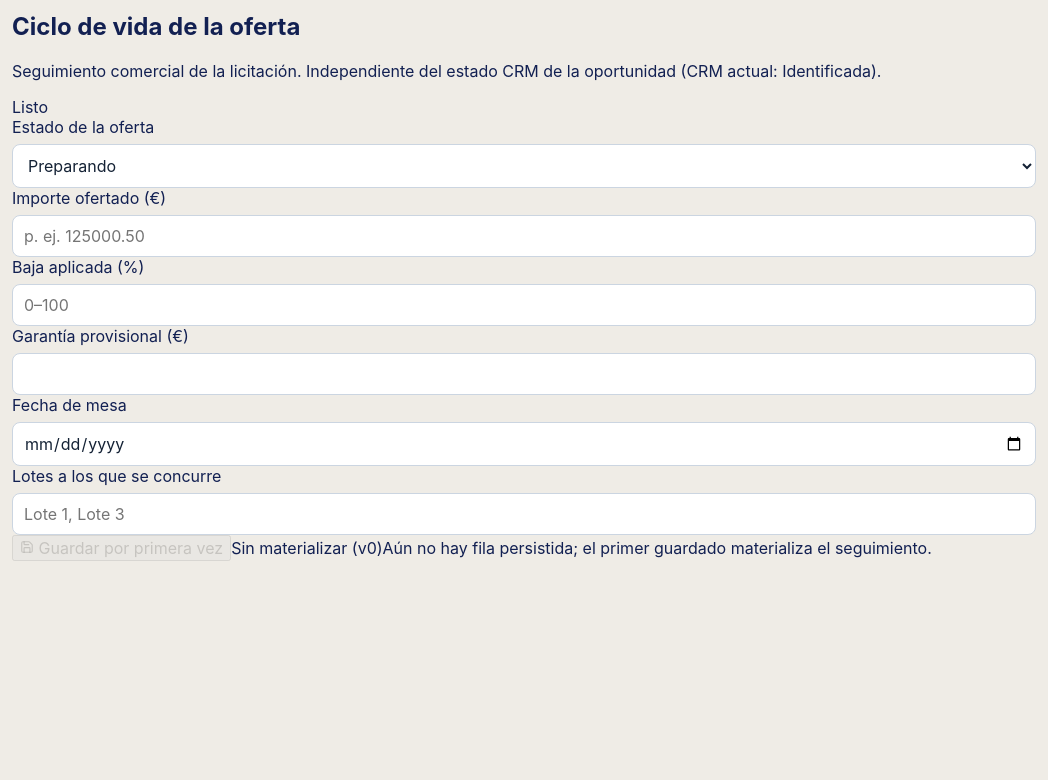
OpportunityOfferLifecyclePanel › maneja estado virtual no materializado y primer guardado con version=0
Expected: the form with test id "offer-lifecycle-form" is shown, [12,117,1036,561]
Expected: the text with test id "offer-lifecycle-version" reads "Sin materializar (v0)", [231,538,383,558]
Select "Presentada" in the dropdown with test id "offer-lifecycle-status": (524, 166) [12,144,1036,188]
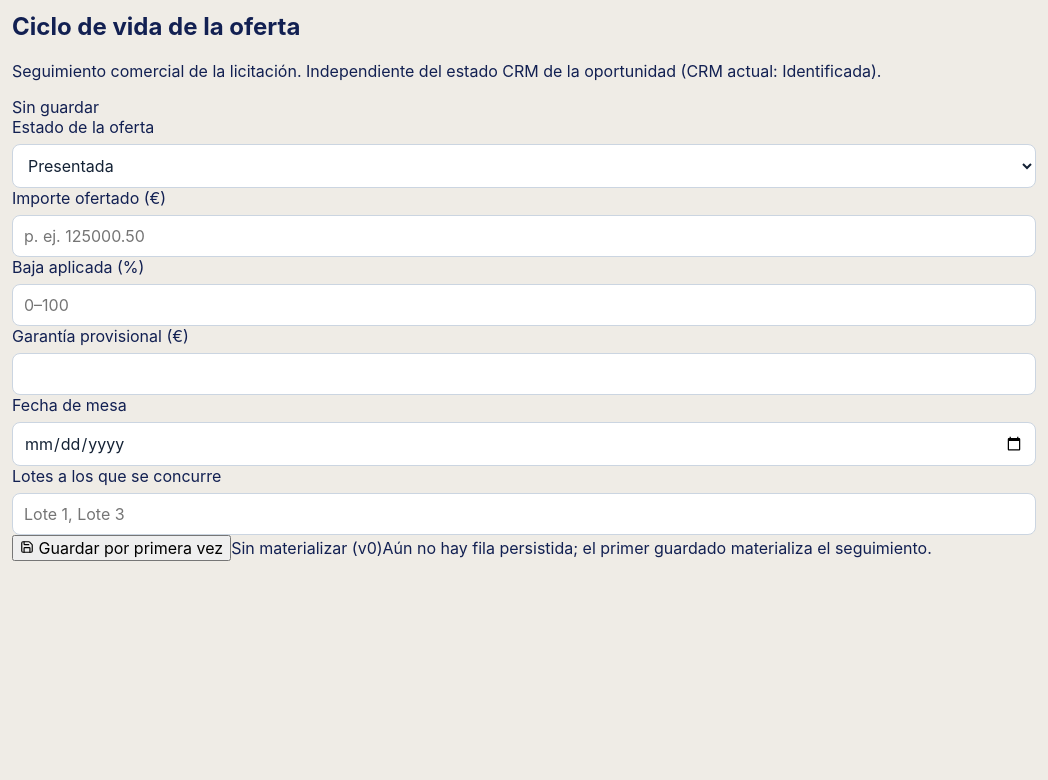
In the field with test id "offer-lifecycle-importe": (524, 236) [12,215,1036,257], type "1000"
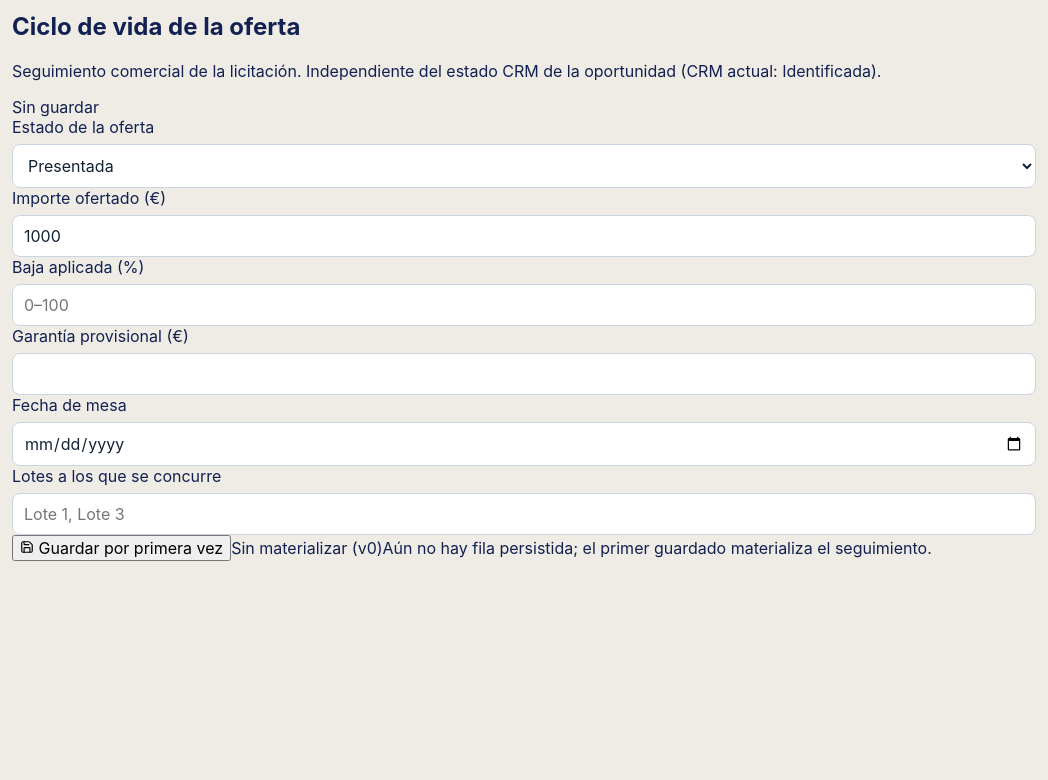
Click the button with test id "offer-lifecycle-save": (122, 548) [12,535,231,561]
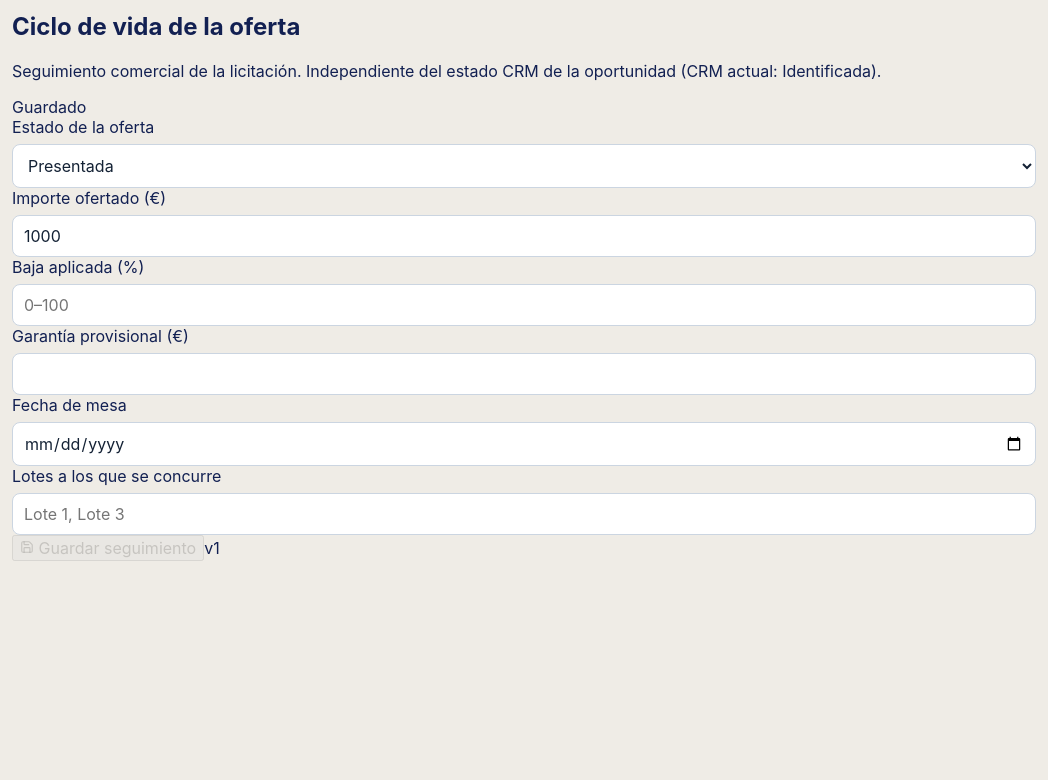
Expected: the text with test id "offer-lifecycle-version" reads "v1", [204,538,220,558]
